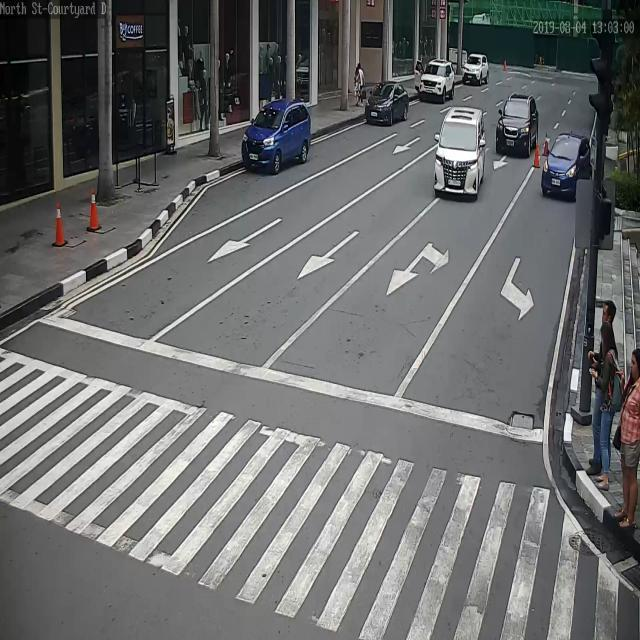car: (240, 99, 312, 177), (541, 134, 591, 200), (495, 93, 540, 159), (364, 83, 411, 129), (417, 60, 457, 104), (461, 53, 490, 86)
van: (433, 106, 487, 198)
